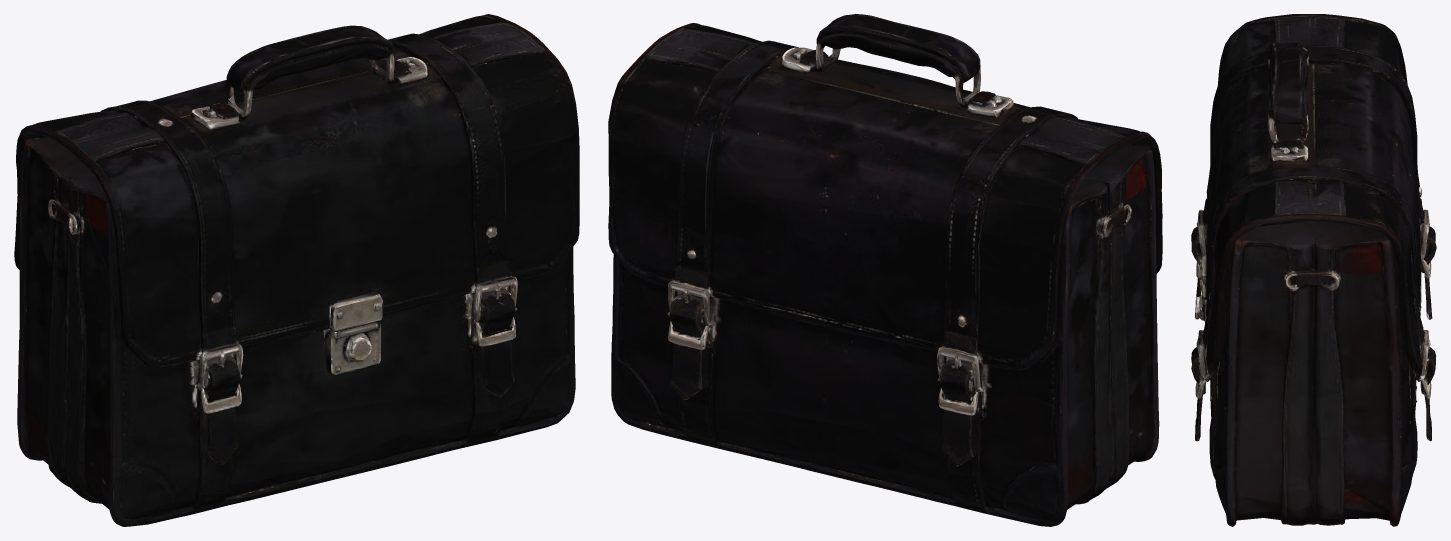
Rendered from briefcase.glb.
3 views of the same model, side by side, from view 1: azimuth 30°, elevation 25°; view 2: azimuth 150°, elevation 25°; view 3: azimuth 270°, elevation 25° (orthographic). The views are drawn at different scales.
Visible parts, largest first — view 1: world; view 2: world; view 3: world.
Boxes of the visible parts, box(x1,y1,x2,y2) form: world: box(14, 14, 579, 526); world: box(608, 14, 1162, 526); world: box(1191, 14, 1436, 526).
Bounding box in the file's own units: 1.99 × 1.66 × 0.9951.
Materials: 1 (1 with a texture image).
